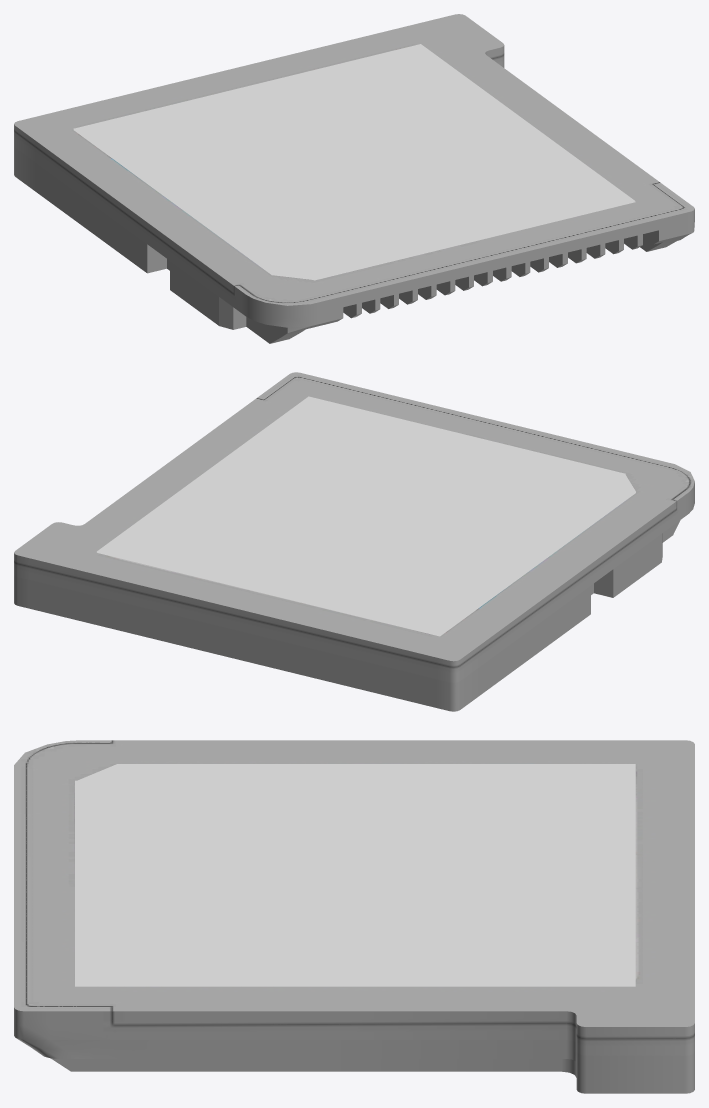
The model's file is cartridge.glb.
3 renders of one model, top to bottom at view 1: azimuth 30°, elevation 25°; view 2: azimuth 150°, elevation 25°; view 3: azimuth 270°, elevation 25°, orthographic. The views are drawn at different scales.
Visible parts, largest first — view 1: Game Cart_001, Game Cart_002; view 2: Game Cart_001, Game Cart_002; view 3: Game Cart_001, Game Cart_002.
Part boxes in pixels (x1,y1,x2,y2): Game Cart_001: [73, 44, 635, 279]; Game Cart_002: [14, 14, 694, 343]; Game Cart_001: [97, 396, 635, 635]; Game Cart_002: [14, 372, 694, 711]; Game Cart_001: [75, 764, 635, 985]; Game Cart_002: [14, 740, 694, 1093].
Size of the model in its own units: 0.3524 by 0.0389 by 0.3534.
5 materials, 1 textured.
